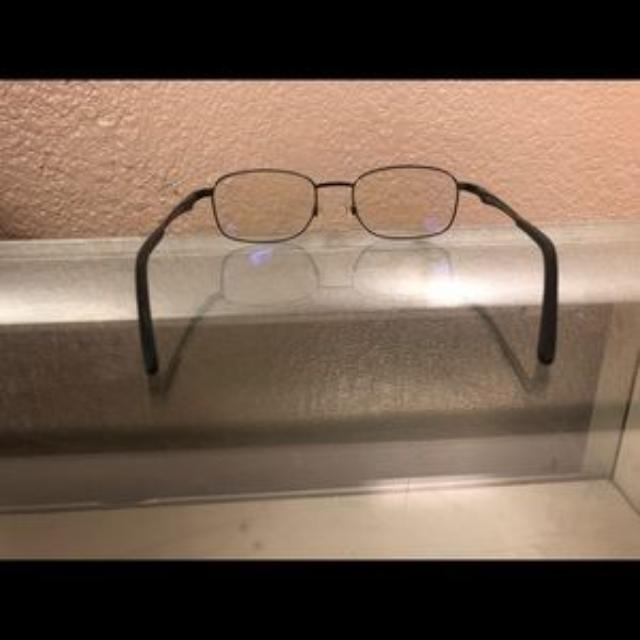mask: (134, 165, 560, 378)
